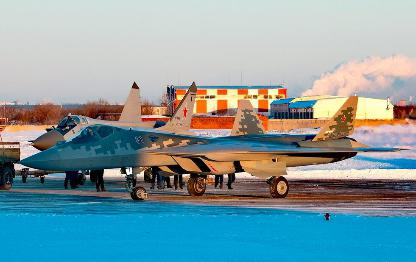Mig31: (23, 79, 197, 183)
SR71: (16, 94, 412, 198)
